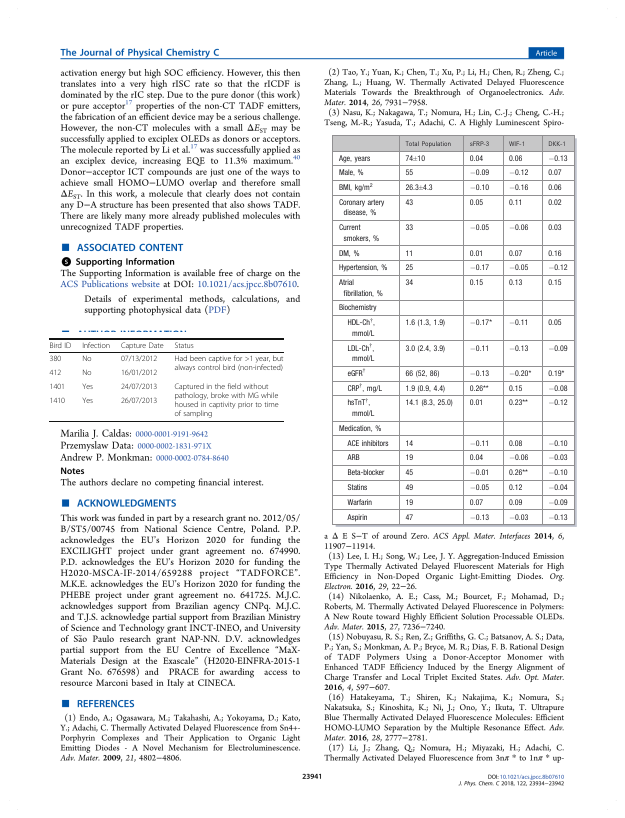bordered: (332, 133, 574, 524)
borderless: (49, 337, 284, 421)
cell: (173, 382, 279, 419), (173, 354, 284, 373), (337, 199, 385, 218), (337, 279, 383, 298), (337, 224, 380, 244), (346, 317, 375, 339), (346, 343, 375, 364), (346, 398, 375, 419), (337, 264, 388, 273), (404, 399, 453, 408), (337, 424, 382, 433), (337, 182, 373, 193), (120, 341, 164, 350), (346, 439, 389, 448), (120, 354, 158, 364), (120, 368, 158, 378), (120, 382, 158, 392), (120, 396, 158, 406), (404, 319, 446, 328), (404, 344, 446, 353), (404, 384, 446, 393), (404, 141, 451, 149), (337, 304, 377, 313), (404, 369, 440, 379), (346, 383, 382, 393), (346, 469, 385, 478), (337, 154, 371, 163), (81, 341, 111, 350), (404, 184, 433, 193), (507, 369, 532, 379), (337, 169, 364, 178), (346, 498, 373, 507), (346, 368, 366, 379), (468, 369, 490, 379), (346, 483, 368, 493), (468, 483, 490, 493), (468, 319, 492, 328), (547, 483, 568, 493), (337, 249, 360, 258), (49, 341, 72, 350), (404, 154, 426, 163), (468, 169, 490, 178), (507, 169, 529, 178), (468, 184, 490, 193), (507, 184, 529, 193), (468, 224, 490, 233), (507, 224, 529, 233), (468, 264, 490, 273), (507, 264, 529, 273), (507, 319, 529, 328), (468, 344, 490, 353), (507, 344, 529, 353), (468, 439, 490, 448), (507, 454, 529, 463), (468, 469, 490, 478), (346, 513, 368, 522), (468, 513, 490, 522), (507, 513, 529, 522), (173, 341, 195, 350), (547, 154, 568, 163), (547, 264, 568, 273), (547, 344, 568, 353), (468, 384, 489, 393), (547, 384, 568, 393), (507, 399, 528, 408), (547, 399, 568, 408), (547, 439, 568, 448), (547, 454, 568, 463), (507, 469, 528, 478), (547, 469, 568, 478), (547, 498, 568, 507), (547, 513, 568, 522), (547, 369, 565, 379), (468, 141, 490, 149), (49, 382, 66, 392), (49, 396, 66, 406), (507, 483, 523, 493), (547, 141, 566, 149), (507, 141, 525, 149), (468, 154, 484, 163), (507, 154, 523, 163), (468, 199, 484, 208), (507, 199, 523, 208), (468, 249, 484, 258), (507, 249, 523, 258), (468, 279, 484, 288), (507, 279, 523, 288), (507, 384, 523, 393), (468, 399, 484, 408), (507, 439, 523, 448), (468, 454, 484, 463), (468, 498, 484, 507), (507, 498, 523, 507), (547, 169, 562, 178), (547, 184, 562, 193), (547, 199, 562, 208), (547, 224, 562, 233), (547, 249, 562, 258), (547, 279, 562, 288), (547, 319, 562, 328), (49, 354, 62, 364), (49, 368, 62, 378), (81, 382, 94, 392), (81, 396, 94, 406), (346, 454, 360, 463), (81, 354, 92, 364), (81, 368, 92, 378), (404, 483, 414, 493), (404, 169, 414, 178), (404, 199, 414, 208), (404, 224, 414, 233), (404, 249, 414, 258), (404, 264, 414, 273), (404, 279, 414, 288), (404, 439, 414, 448), (404, 454, 414, 463), (404, 469, 414, 478), (404, 498, 414, 507), (404, 513, 414, 522)
